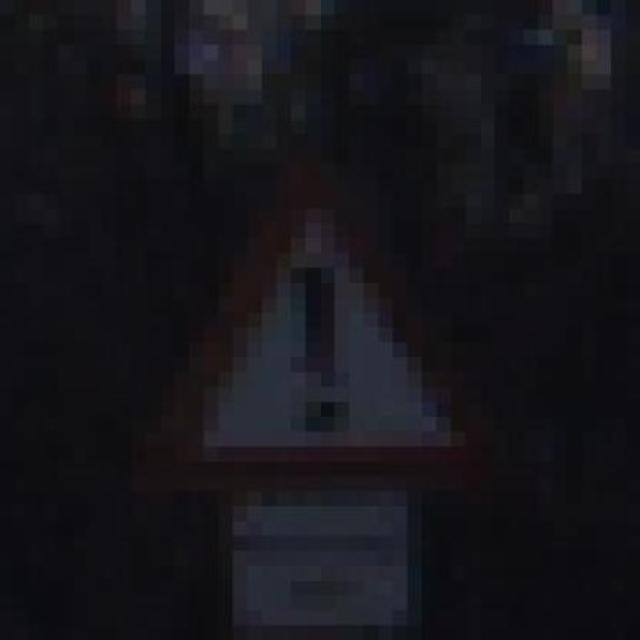Attention Please-: (116, 163, 524, 506)
